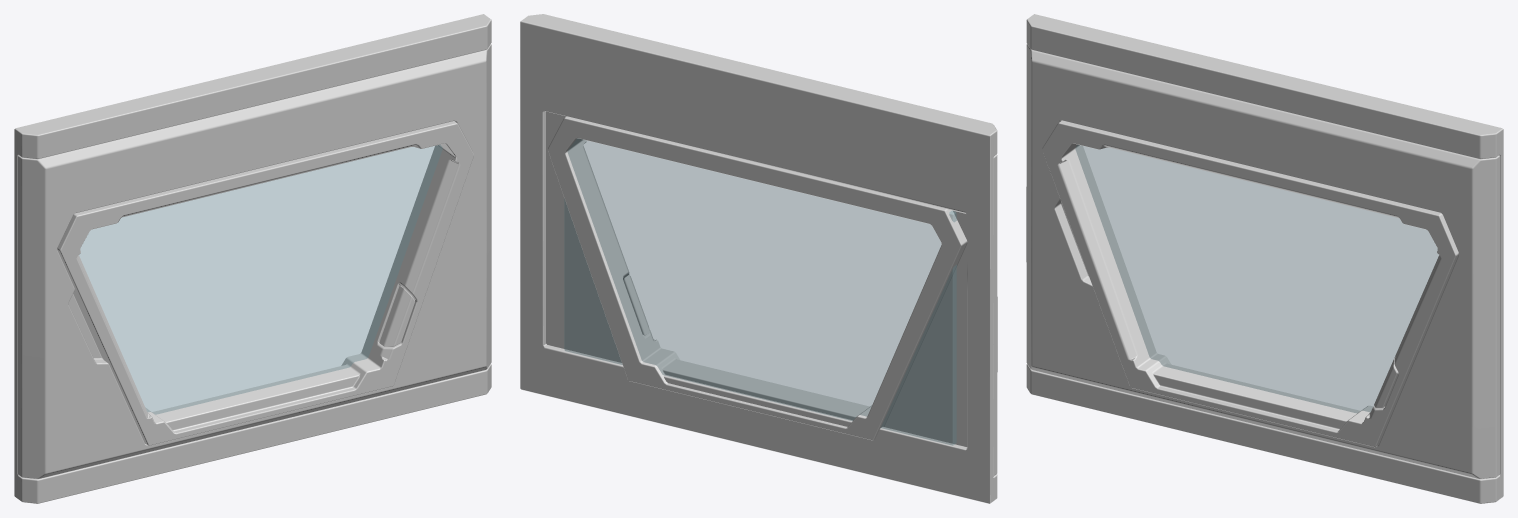
The model's file is WindowA4x3.glb.
3 renders of one model, left to right at view 1: azimuth 30°, elevation 25°; view 2: azimuth 150°, elevation 25°; view 3: azimuth 330°, elevation 25°, orthographic.
Parts seen in each view (by area): view 1: WindowA4x3; view 2: WindowA4x3; view 3: WindowA4x3.
Part boxes in pixels (x1,y1,x2,y2): WindowA4x3: [14, 14, 491, 503]; WindowA4x3: [520, 14, 997, 503]; WindowA4x3: [1026, 14, 1503, 503].
Size of what is drawn, in the model's own units: 4 by 3 by 0.3107.
